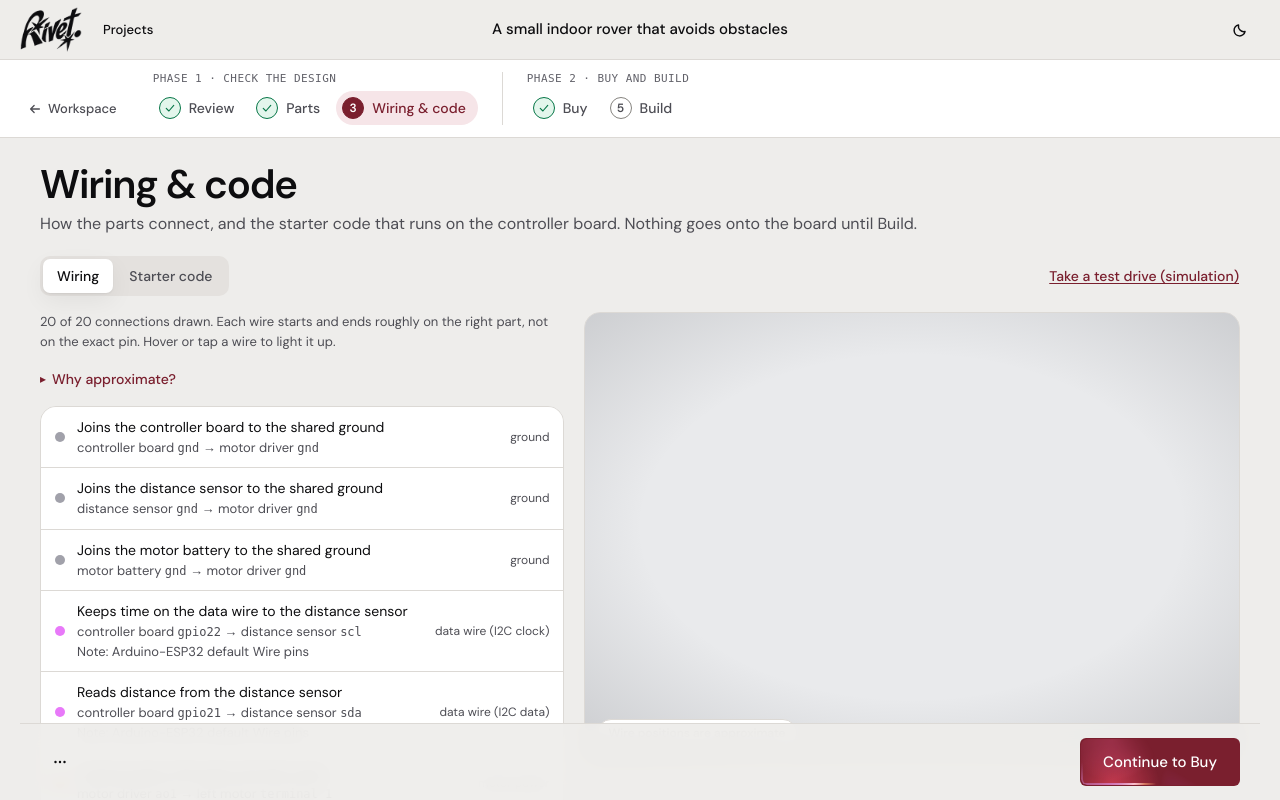
Wiring & code › lists connections, switches tabs, and disables the download with a reason offline
This screenshot has width=1280, height=800.
Expected: the text "Wire positions are approximate" is shown, [597,719,796,747]
Expected: the button with test id "wiring-row-wire-i2c-sda" shows "Reads distance from the distance sensor", [41,672,563,752]
Click the tab with test id "wiring-tab-firmware".
click(171, 276)  # box [115,259,226,293]
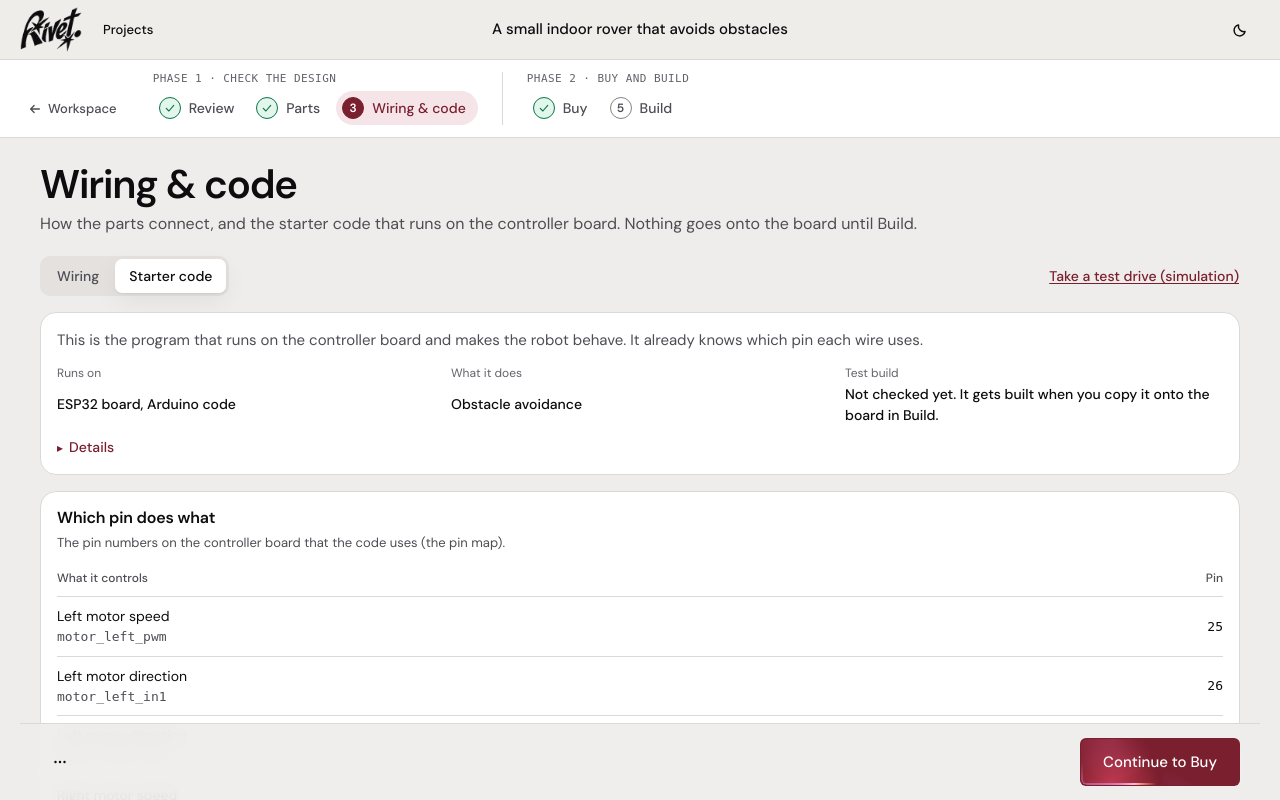
Expected: the button with test id "wiring-primary" is enabled, [1080,738,1240,786]
Now the row with test id "firmware-pin-motor_left_pwm" shows "Left motor speed", box [57,608,170,626]
Now the text with test id "firmware-compile-status" shows "Not checked yet", box [845,385,1210,424]
